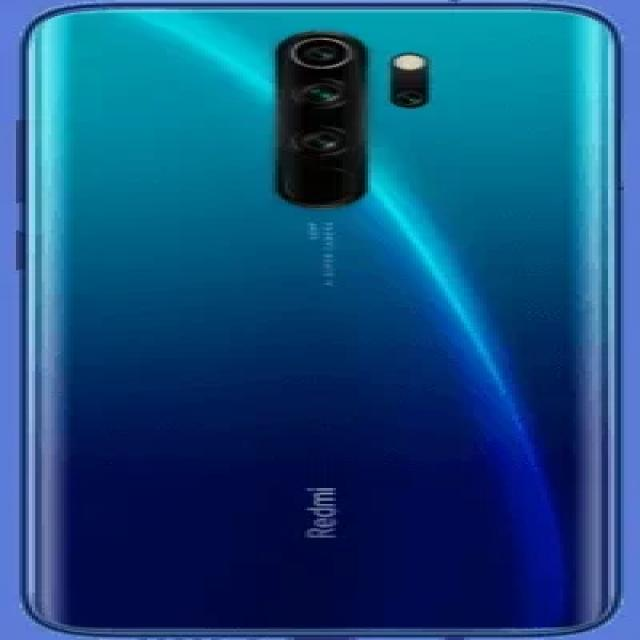Red Mi Note 8 Pro: (22, 0, 640, 640)
